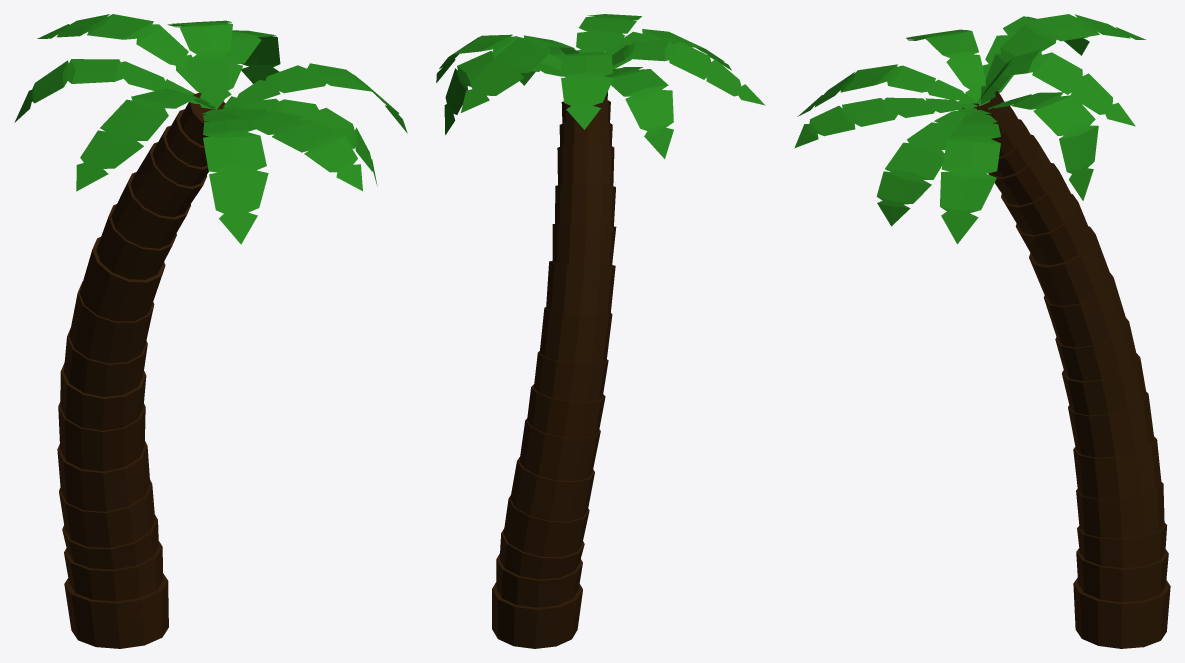
File: palmera.glb
3 renders of one model, left to right at view 1: azimuth 30°, elevation 25°; view 2: azimuth 150°, elevation 25°; view 3: azimuth 270°, elevation 25°, orthographic. The views are drawn at different scales.
Visible parts, largest first — view 1: tronco, palma.001; view 2: tronco, palma.001; view 3: tronco, palma.001.
Boxes of the visible parts, box(x1,y1,x2,y2) form: tronco: box(57, 92, 225, 648); palma.001: box(14, 14, 407, 244); tronco: box(492, 92, 616, 648); palma.001: box(436, 14, 765, 158); tronco: box(962, 91, 1170, 648); palma.001: box(794, 14, 1145, 244).
Bounding box in the file's own units: 4.69 × 8.03 × 4.61.
